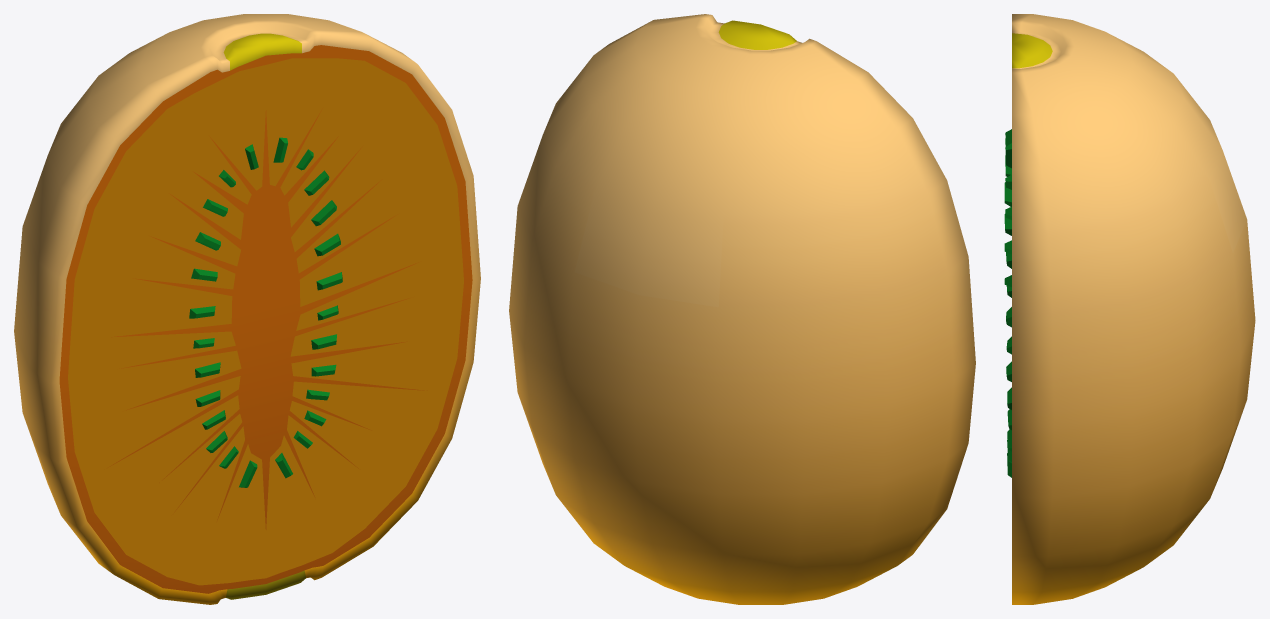
File: Kiwi_half_01_gold.fbx
3 renders of one model, left to right at view 1: azimuth 30°, elevation 25°; view 2: azimuth 150°, elevation 25°; view 3: azimuth 270°, elevation 25°, orthographic. The views are drawn at different scales.
Parts seen in each view (by area): view 1: Kiwi_half_01_gold; view 2: Kiwi_half_01_gold; view 3: Kiwi_half_01_gold.
Part boxes in pixels (x1,y1,x2,y2): Kiwi_half_01_gold: (14, 14, 480, 604); Kiwi_half_01_gold: (509, 14, 975, 604); Kiwi_half_01_gold: (1004, 14, 1255, 604).
Size of the model in its own units: 75.82 by 92.7 by 39.66.
